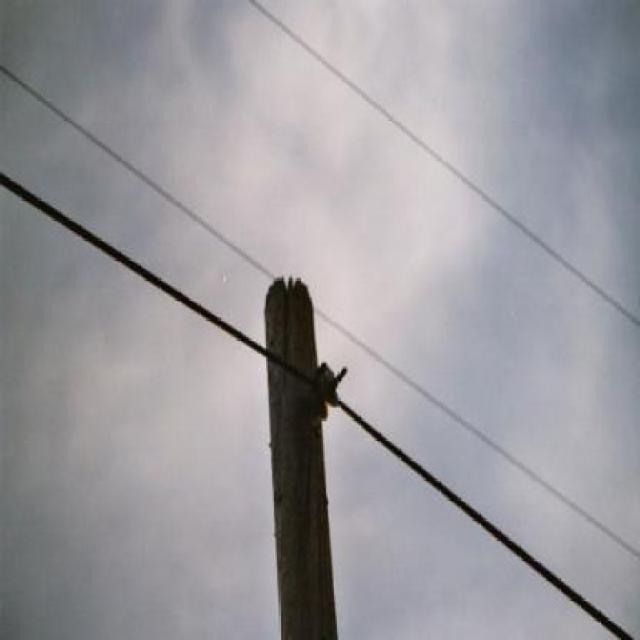pole: (255, 257, 343, 640)
